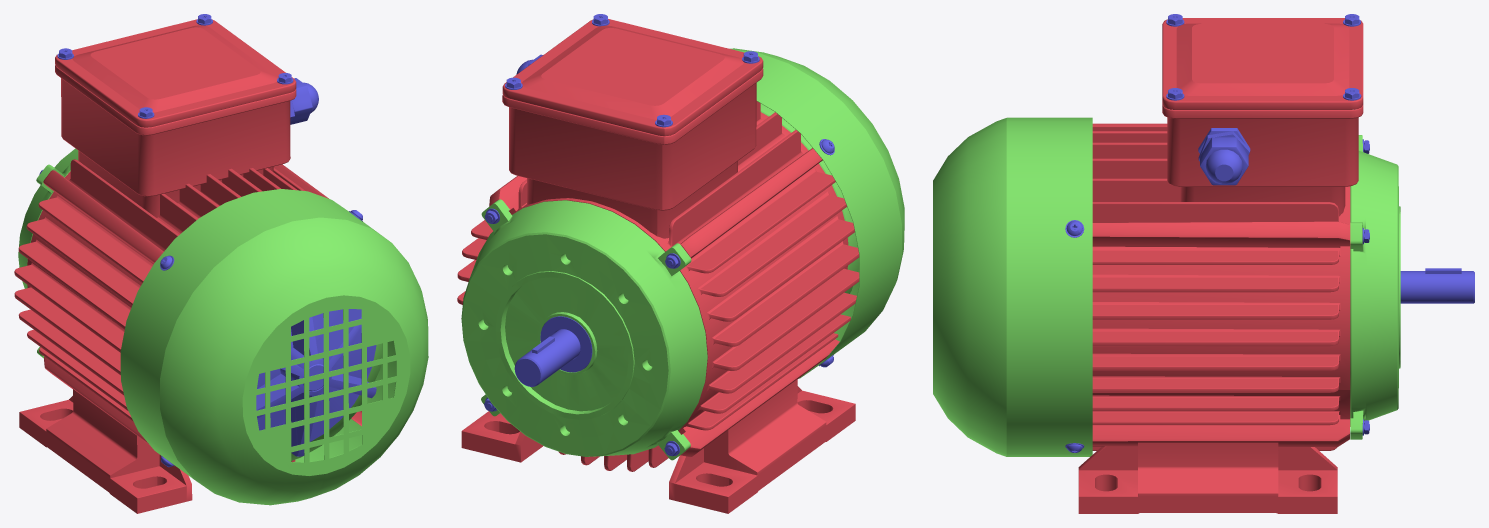
3 views of the same model, side by side, from view 1: azimuth 30°, elevation 25°; view 2: azimuth 150°, elevation 25°; view 3: azimuth 270°, elevation 25° (orthographic). The views are drawn at different scales.
Parts seen in each view (by area): view 1: closingPart, body, parts; view 2: body, closingPart, parts; view 3: body, closingPart, parts.
Boxes of the visible parts, <box> form: closingPart: <box>18,148,428,505</box>; body: <box>14,19,361,513</box>; parts: <box>39,14,376,467</box>; body: <box>457,19,859,513</box>; closingPart: <box>461,48,904,460</box>; parts: <box>484,14,834,456</box>; body: <box>1078,18,1363,513</box>; closingPart: <box>933,117,1400,456</box>; parts: <box>1065,14,1474,452</box>.
Bounding box in the file's own units: 1.12 × 1.44 × 1.8.
